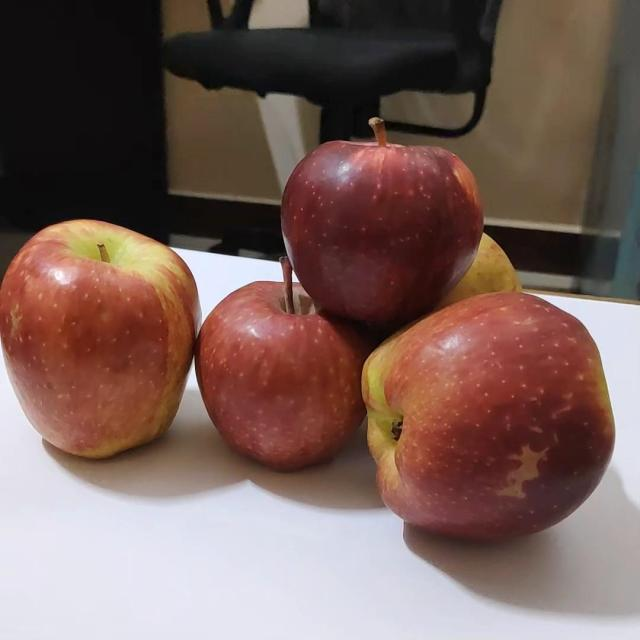Apple: (362, 292, 615, 540), (0, 220, 201, 458), (281, 121, 483, 325), (196, 258, 376, 471)
